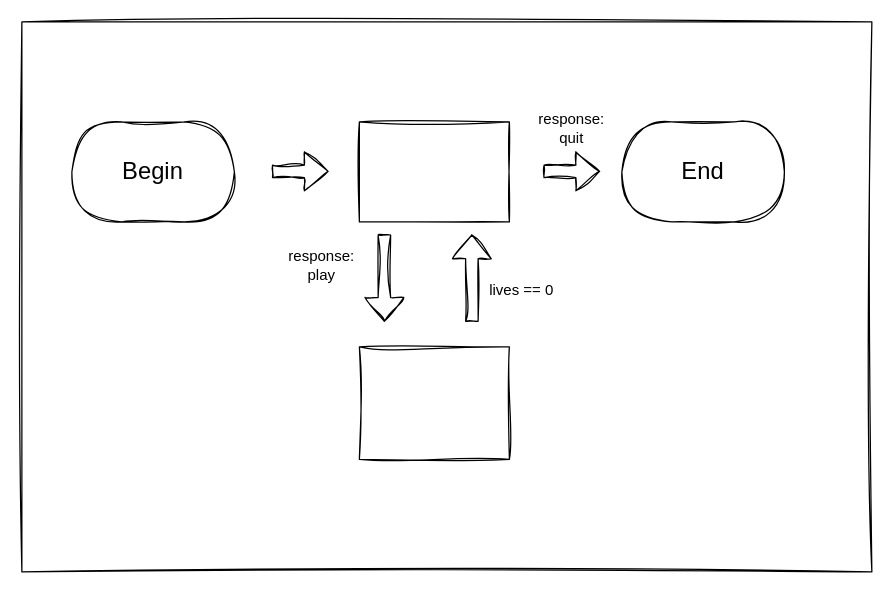
The diagram is 894 pixels wide and 594 high, and some of its shapes have lost their labels. The centre of each missing label's shape, as x and y in pixels:
Game Scene: point (433, 402)
Intro Scene: point (433, 171)
